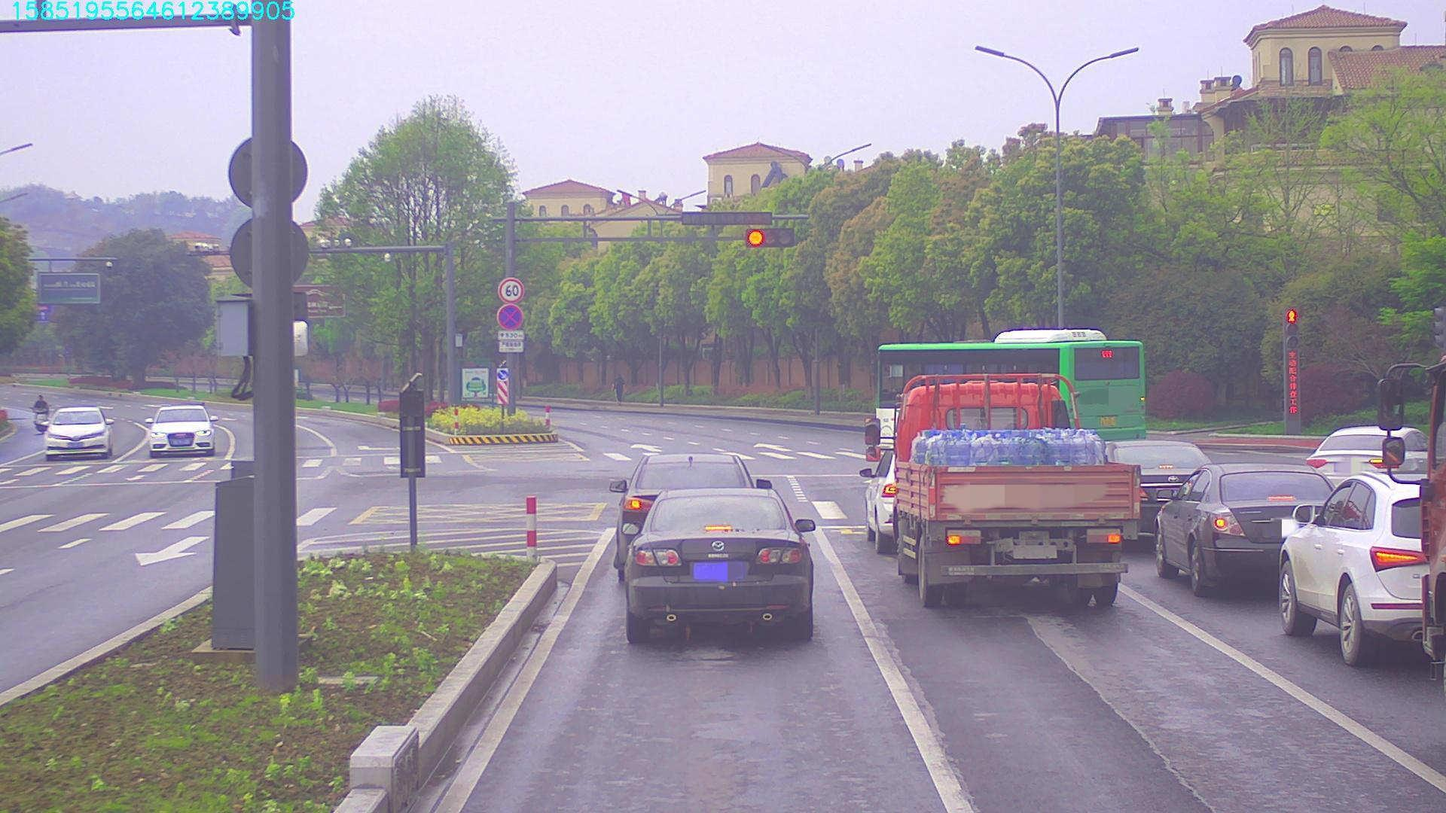red: (745, 229, 789, 247)
